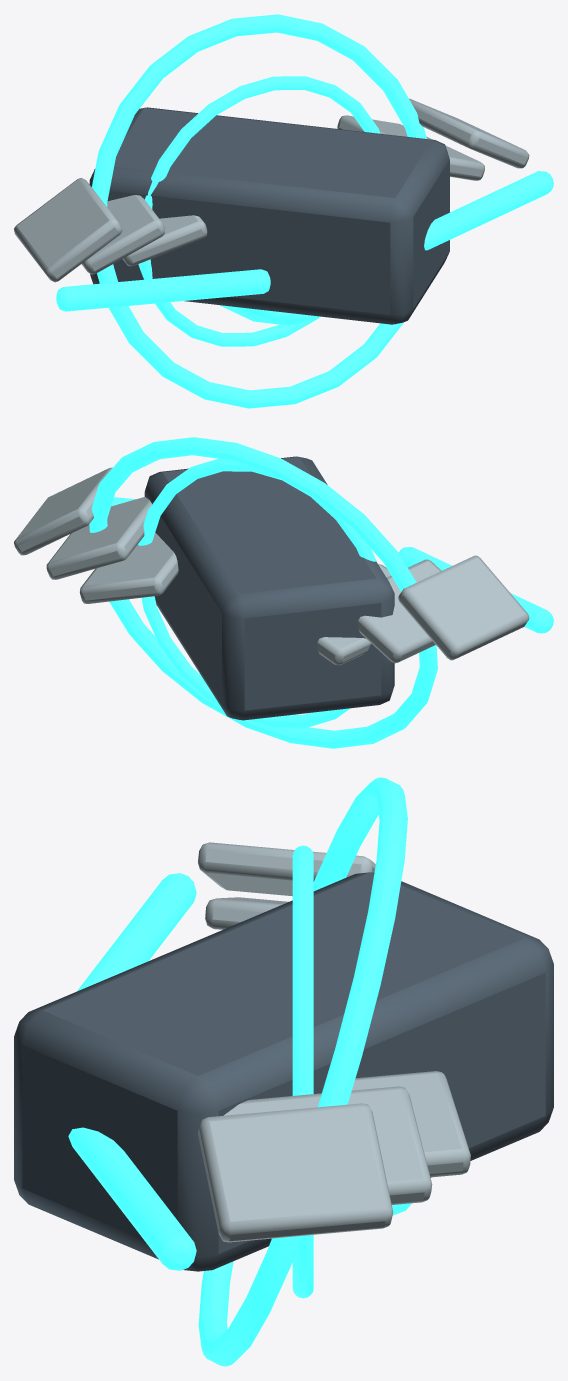
The model's file is enm_boss_archivist_95_top3d_v001.glb.
3 views of the same model, one above another, from view 1: azimuth 30°, elevation 25°; view 2: azimuth 150°, elevation 25°; view 3: azimuth 270°, elevation 25° (orthographic). The views are drawn at different scales.
Parts seen in each view (by area): view 1: Shell_CoreObelisk, StateVFX_OrbitRingA, StateVFX_OrbitRingB, Appendage_PageWing_-1_2, Appendage_Stylus_-1, Appendage_Stylus_1, Appendage_PageWing_-1_1, Appendage_PageWing_1_2, Appendage_PageWing_-1_0, Appendage_PageWing_1_1, Core_LuminousArchive; view 2: Shell_CoreObelisk, StateVFX_OrbitRingA, Appendage_PageWing_-1_2, StateVFX_OrbitRingB, Appendage_PageWing_1_1, Appendage_PageWing_1_0, Appendage_PageWing_1_2, Appendage_PageWing_-1_1, Appendage_Stylus_-1, Appendage_PageWing_-1_0; view 3: Shell_CoreObelisk, Appendage_PageWing_1_2, StateVFX_OrbitRingA, StateVFX_OrbitRingB, Appendage_PageWing_1_1, Appendage_Stylus_1, Appendage_PageWing_1_0, Appendage_PageWing_-1_2, Appendage_Stylus_-1, Appendage_PageWing_-1_1.
Boxes of the visible parts, bbox=[...] form: Shell_CoreObelisk: bbox=[89, 107, 449, 324]; StateVFX_OrbitRingA: bbox=[92, 14, 426, 408]; StateVFX_OrbitRingB: bbox=[138, 76, 380, 346]; Appendage_PageWing_-1_2: bbox=[14, 178, 122, 282]; Appendage_Stylus_-1: bbox=[56, 269, 270, 311]; Appendage_Stylus_1: bbox=[424, 171, 553, 250]; Appendage_PageWing_-1_1: bbox=[81, 195, 164, 274]; Appendage_PageWing_1_2: bbox=[409, 98, 529, 168]; Appendage_PageWing_-1_0: bbox=[122, 215, 207, 266]; Appendage_PageWing_1_1: bbox=[337, 115, 484, 180]; Core_LuminousArchive: bbox=[220, 305, 318, 325]; Shell_CoreObelisk: bbox=[144, 456, 394, 720]; StateVFX_OrbitRingA: bbox=[89, 437, 437, 748]; Appendage_PageWing_-1_2: bbox=[398, 555, 529, 660]; StateVFX_OrbitRingB: bbox=[138, 458, 377, 728]; Appendage_PageWing_1_1: bbox=[46, 497, 151, 579]; Appendage_PageWing_1_0: bbox=[79, 532, 178, 603]; Appendage_PageWing_1_2: bbox=[14, 467, 112, 555]; Appendage_PageWing_-1_1: bbox=[358, 559, 441, 663]; Appendage_Stylus_-1: bbox=[398, 547, 553, 633]; Appendage_PageWing_-1_0: bbox=[317, 564, 390, 665]; Shell_CoreObelisk: bbox=[14, 872, 553, 1271]; Appendage_PageWing_1_2: bbox=[198, 1103, 393, 1242]; StateVFX_OrbitRingA: bbox=[198, 777, 407, 1366]; StateVFX_OrbitRingB: bbox=[292, 845, 313, 1298]; Appendage_PageWing_1_1: bbox=[223, 1086, 432, 1204]; Appendage_Stylus_1: bbox=[68, 1127, 196, 1270]; Appendage_PageWing_1_0: bbox=[352, 1071, 470, 1177]; Appendage_PageWing_-1_2: bbox=[198, 842, 375, 896]; Appendage_Stylus_-1: bbox=[77, 873, 196, 991]; Appendage_PageWing_-1_1: bbox=[205, 897, 288, 929].
Size of the model in its own units: 4.59 by 3.04 by 2.8.
